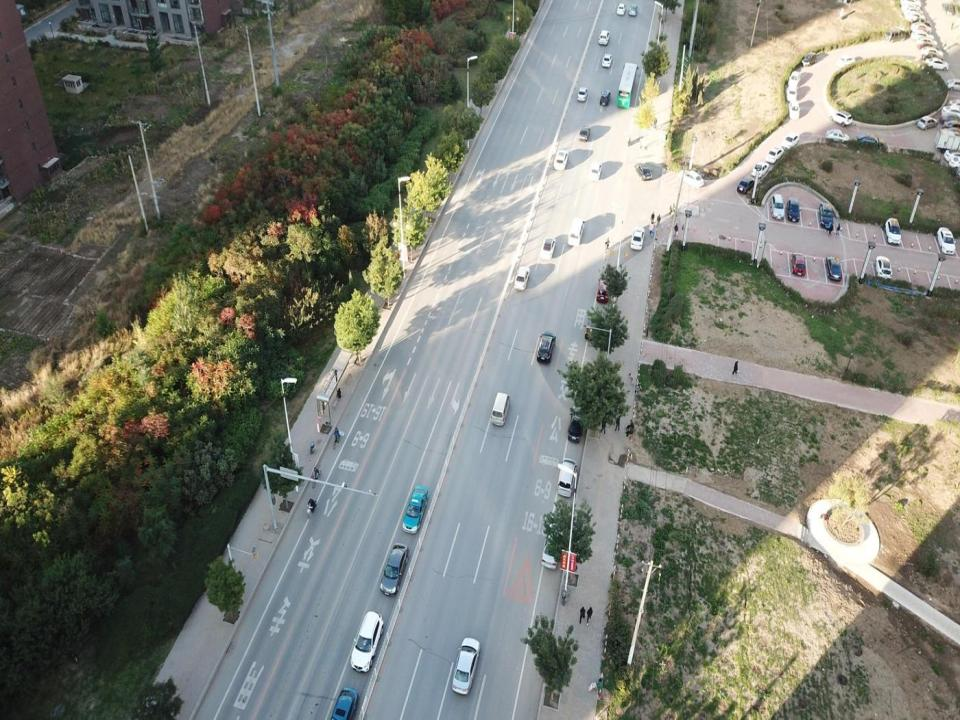bus: (617, 61, 638, 106)
car: (350, 611, 383, 674), (451, 637, 482, 698), (378, 544, 408, 596), (404, 486, 426, 537), (540, 524, 563, 570), (329, 686, 360, 719), (566, 406, 584, 444), (535, 332, 557, 362), (856, 135, 886, 154), (680, 166, 704, 187), (877, 253, 894, 282), (514, 265, 531, 292), (825, 256, 843, 281), (585, 314, 601, 341), (938, 229, 955, 254), (791, 253, 807, 278), (770, 193, 785, 219), (886, 218, 900, 245), (819, 202, 833, 229), (825, 128, 850, 143), (922, 52, 944, 69), (917, 41, 939, 58), (910, 29, 932, 46), (902, 6, 924, 23), (597, 277, 611, 303), (736, 176, 755, 195), (917, 36, 939, 52), (904, 12, 926, 28), (788, 197, 801, 224), (829, 112, 854, 126), (782, 132, 799, 152), (883, 27, 905, 42), (922, 47, 944, 62), (912, 22, 934, 37), (901, 2, 923, 17), (752, 162, 770, 180), (916, 116, 939, 130), (926, 57, 949, 71), (554, 151, 569, 172), (542, 237, 555, 261), (632, 228, 645, 252), (634, 163, 652, 180), (802, 51, 818, 68), (941, 105, 960, 119), (836, 56, 856, 69), (766, 148, 782, 164), (941, 112, 960, 125), (590, 162, 602, 182), (942, 119, 960, 132), (788, 99, 799, 120), (579, 124, 591, 143), (788, 68, 799, 88), (576, 86, 588, 104), (599, 30, 611, 47), (786, 86, 798, 103), (946, 78, 960, 91), (945, 148, 960, 160), (600, 90, 611, 105), (628, 3, 639, 17), (603, 54, 613, 68), (616, 3, 626, 16), (949, 98, 960, 109)
truck: (934, 129, 960, 152)
van: (556, 457, 577, 497), (490, 393, 508, 428), (566, 218, 585, 248)
